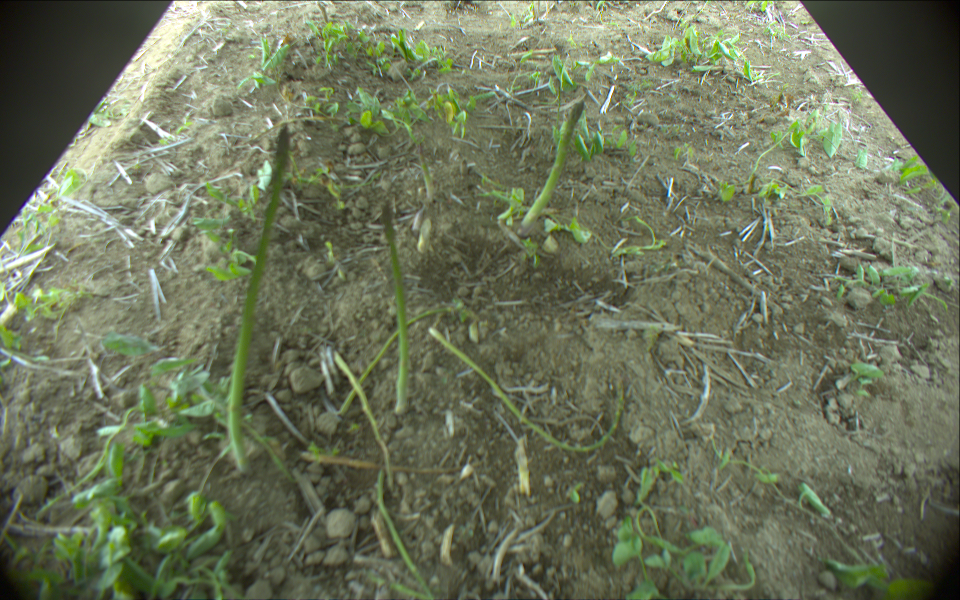aspa: (427, 328, 632, 452), (225, 124, 291, 469), (329, 303, 481, 418), (521, 98, 587, 230), (378, 468, 439, 600), (333, 354, 394, 485), (381, 200, 410, 414), (415, 142, 434, 201)
